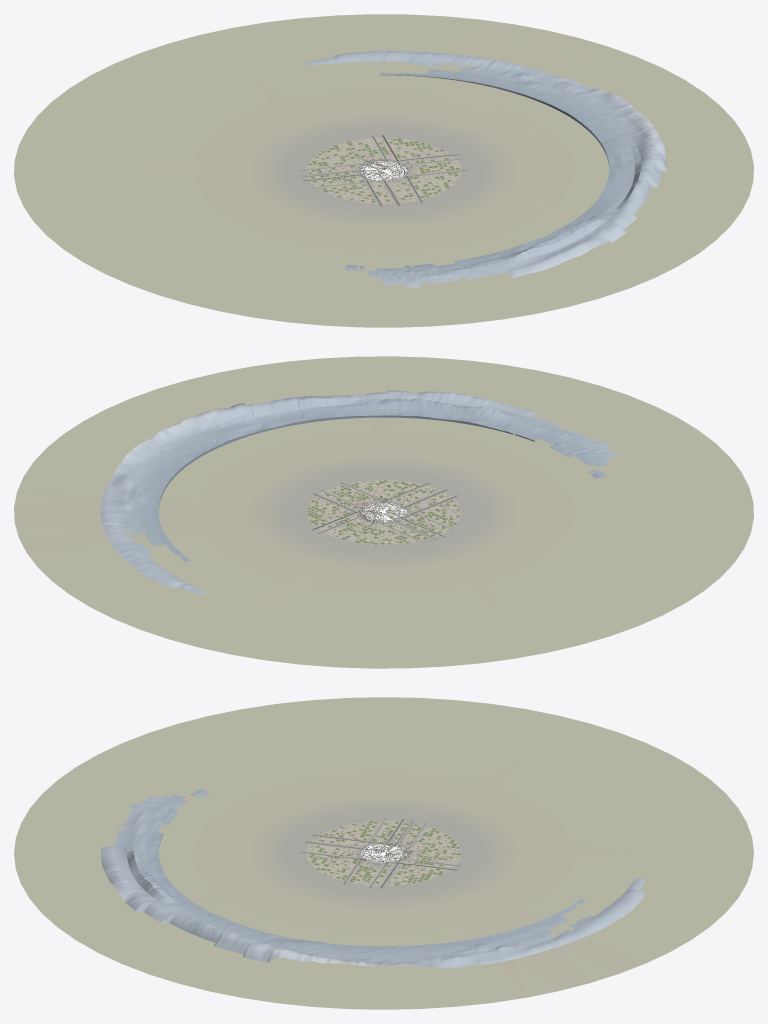
File: shymkent-plaza.env.glb
3 renders of one model, top to bottom at view 1: azimuth 30°, elevation 25°; view 2: azimuth 150°, elevation 25°; view 3: azimuth 270°, elevation 25°, orthographic.
Parts seen in each view (by area): view 1: Context_Far__ctx.farStreet, Context_Mountains__ctx.mountain, Context_Mountains__ctx.mountainFar, Context_Far__site.ground, Context_Far__ctx.clayFar, Context_Far__site.grassDark, Context_Roads__site.asphalt, Context_Buildings__ctx.clayTone; view 2: Context_Far__ctx.farStreet, Context_Mountains__ctx.mountain, Context_Mountains__ctx.mountainFar, Context_Far__site.ground, Context_Far__ctx.clayFar, Context_Far__site.grassDark, Context_Roads__site.asphalt, Context_Buildings__ctx.clayTone; view 3: Context_Far__ctx.farStreet, Context_Mountains__ctx.mountain, Context_Mountains__ctx.mountainFar, Context_Far__site.ground, Context_Far__ctx.clayFar, Context_Far__site.grassDark, Context_Roads__site.asphalt, Context_Buildings__ctx.clayTone.
Boxes of the visible parts, <box> form: Context_Far__ctx.farStreet: <box>14,14,753,327</box>; Context_Mountains__ctx.mountain: <box>345,62,641,279</box>; Context_Mountains__ctx.mountainFar: <box>306,50,666,287</box>; Context_Far__site.ground: <box>306,137,461,204</box>; Context_Far__ctx.clayFar: <box>307,138,458,203</box>; Context_Far__site.grassDark: <box>308,138,459,202</box>; Context_Roads__site.asphalt: <box>301,135,467,206</box>; Context_Buildings__ctx.clayTone: <box>359,159,408,181</box>; Context_Far__ctx.farStreet: <box>14,356,753,668</box>; Context_Mountains__ctx.mountain: <box>126,398,609,562</box>; Context_Mountains__ctx.mountainFar: <box>100,390,617,594</box>; Context_Far__site.ground: <box>306,479,461,544</box>; Context_Far__ctx.clayFar: <box>309,480,459,543</box>; Context_Far__site.grassDark: <box>307,480,460,544</box>; Context_Roads__site.asphalt: <box>312,482,456,542</box>; Context_Buildings__ctx.clayTone: <box>359,502,408,522</box>; Context_Far__ctx.farStreet: <box>14,697,753,1009</box>; Context_Mountains__ctx.mountain: <box>126,789,592,959</box>; Context_Mountains__ctx.mountainFar: <box>101,796,645,968</box>; Context_Far__site.ground: <box>306,820,461,886</box>; Context_Far__ctx.clayFar: <box>308,820,460,884</box>; Context_Far__site.grassDark: <box>309,821,460,885</box>; Context_Roads__site.asphalt: <box>301,818,460,888</box>; Context_Buildings__ctx.clayTone: <box>359,842,412,864</box>.
Bounding box in the file's own units: 23000 × 384 × 23000.
